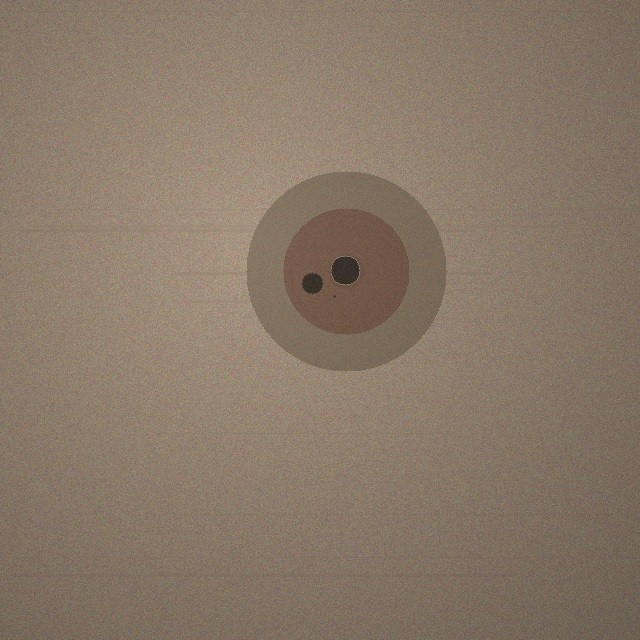shrinkage: (246, 171, 446, 371)
